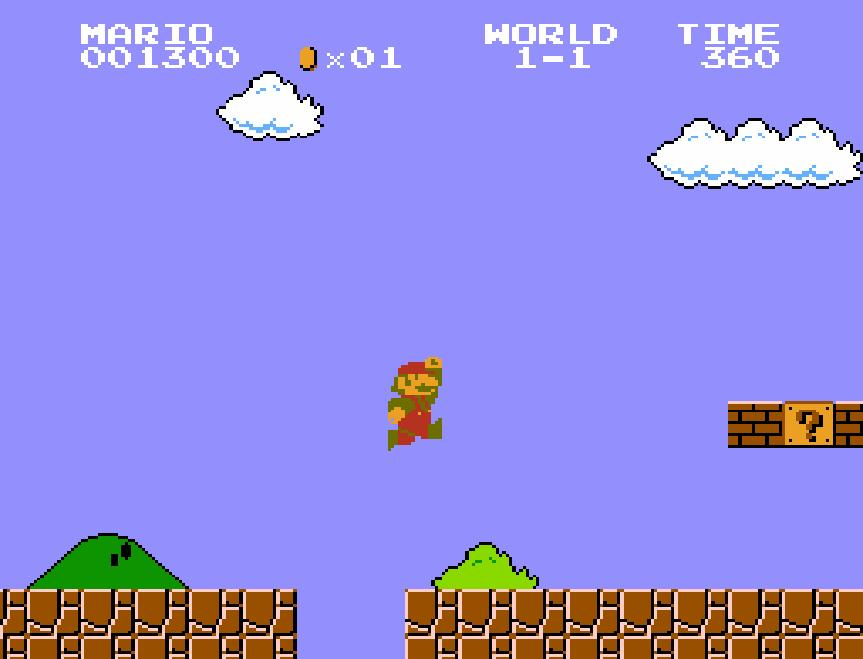big_mario: (386, 354, 444, 452)
